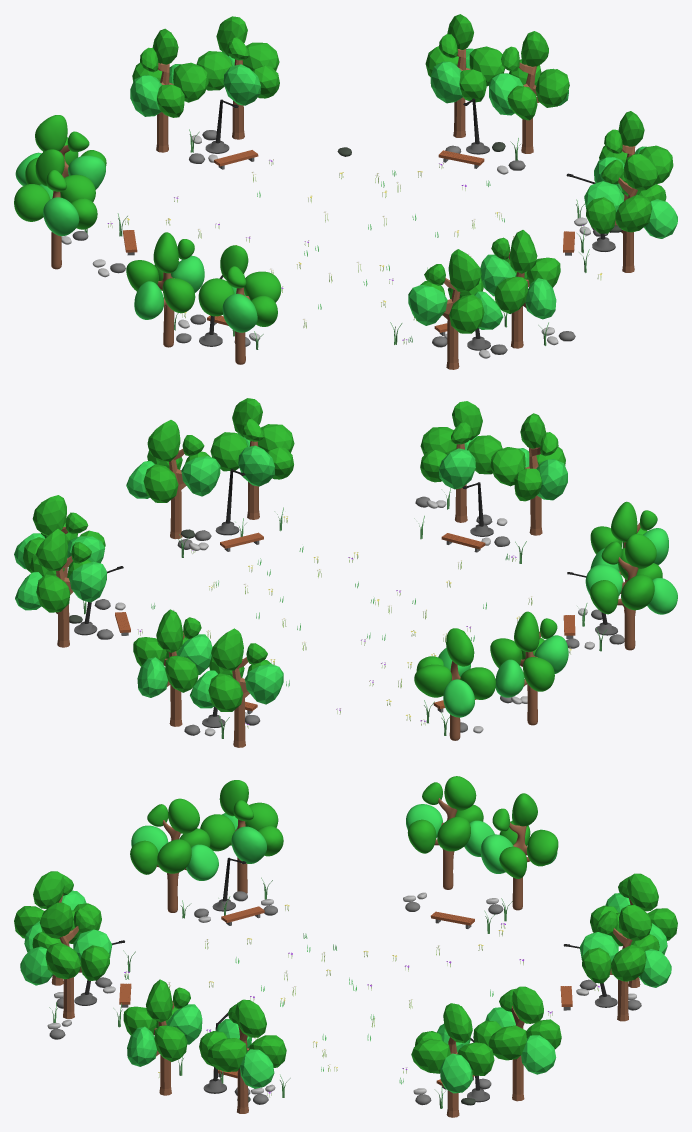
The picture shows the model from 3 angles, top to bottom: view 1: azimuth 30°, elevation 25°; view 2: azimuth 150°, elevation 25°; view 3: azimuth 270°, elevation 25°; orthographic projection. The views are drawn at different scales.
Parts seen in each view (by area): view 1: Cylinder.057, Cylinder.059, Cylinder.060, Cylinder.005, Cylinder.007, Cylinder.010, Cylinder.011, Cylinder.012, Cylinder.004, Cylinder.015, Cylinder.006, Cylinder.016; view 2: Cylinder.007, Cylinder.016, Cylinder.012, Cylinder.015, Cylinder.005, Cylinder.057, Cylinder.010, Cylinder.060, Cylinder.059, Cylinder.006, Cylinder.004, Cylinder.011; view 3: Cylinder.005, Cylinder.060, Cylinder.011, Cylinder.015, Cylinder.016, Cylinder.010, Cylinder.057, Cylinder.007, Cylinder.004, Cylinder.006, Cylinder.012, Cylinder.059.
Boxes of the visible parts, x1,y1,x2,y2 form: Cylinder.057: (584, 154, 677, 272); Cylinder.059: (408, 249, 503, 369); Cylinder.060: (480, 230, 560, 348); Cylinder.005: (196, 16, 279, 139); Cylinder.007: (126, 232, 204, 347); Cylinder.010: (14, 149, 97, 269); Cylinder.011: (198, 245, 281, 364); Cylinder.012: (130, 28, 208, 152); Cylinder.004: (489, 31, 569, 153); Cylinder.015: (425, 14, 505, 137); Cylinder.006: (15, 115, 106, 189); Cylinder.016: (594, 111, 673, 233); Cylinder.007: (585, 533, 677, 650); Cylinder.016: (126, 420, 220, 539); Cylinder.012: (190, 628, 283, 747); Cylinder.015: (15, 528, 106, 647); Cylinder.005: (133, 609, 212, 726); Cylinder.057: (210, 398, 294, 519); Cylinder.010: (490, 611, 568, 725); Cylinder.060: (420, 401, 502, 522); Cylinder.059: (490, 413, 567, 535); Cylinder.006: (414, 628, 495, 740); Cylinder.004: (14, 495, 105, 613); Cylinder.011: (590, 501, 668, 612); Cylinder.005: (579, 905, 671, 1021); Cylinder.060: (20, 902, 112, 1018); Cylinder.011: (130, 798, 218, 912); Cylinder.015: (473, 986, 561, 1101); Cylinder.016: (199, 999, 286, 1113); Cylinder.010: (406, 776, 494, 889); Cylinder.057: (123, 979, 202, 1095); Cylinder.007: (200, 780, 283, 893); Cylinder.004: (411, 1003, 494, 1117); Cylinder.006: (480, 793, 558, 910); Cylinder.012: (590, 873, 677, 987); Cylinder.059: (14, 871, 101, 985).
Size of the model in its own units: 17.66 by 3.71 by 18.95.
